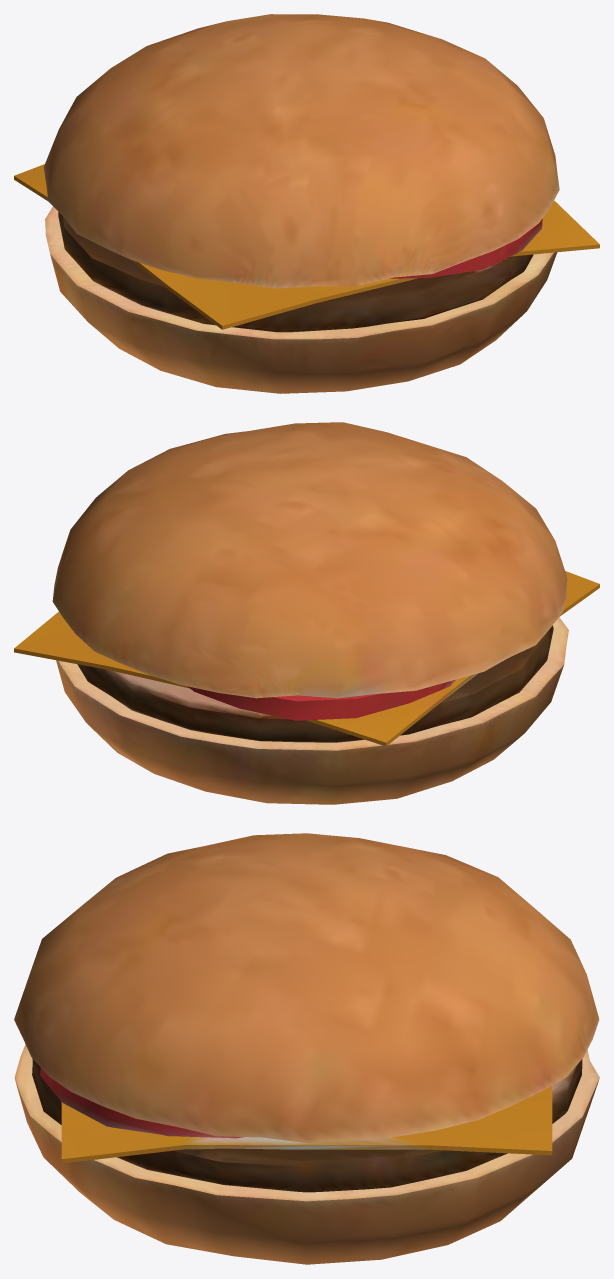
The model's file is Hamburger.glb.
3 renders of one model, top to bottom at view 1: azimuth 30°, elevation 25°; view 2: azimuth 150°, elevation 25°; view 3: azimuth 270°, elevation 25°, orthographic. The views are drawn at different scales.
Visible parts, largest first — view 1: Hamburger; view 2: Hamburger; view 3: Hamburger.
Part boxes in pixels (x1,y1,x2,y2): Hamburger: (14, 14, 599, 393); Hamburger: (14, 422, 599, 804); Hamburger: (14, 833, 599, 1264).
Bounding box in the file's own units: 0.1376 × 0.0774 × 0.1377.
1 material, 1 textured.
